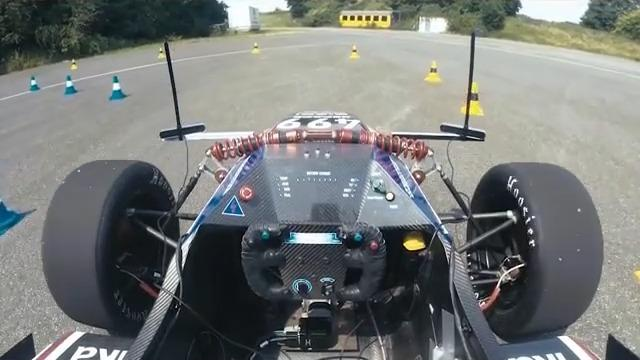blue_cone: (104, 73, 128, 102), (58, 73, 82, 97), (25, 70, 45, 92)
yellow_cone: (462, 78, 492, 116), (420, 58, 449, 87), (345, 41, 363, 59), (249, 40, 260, 56)
